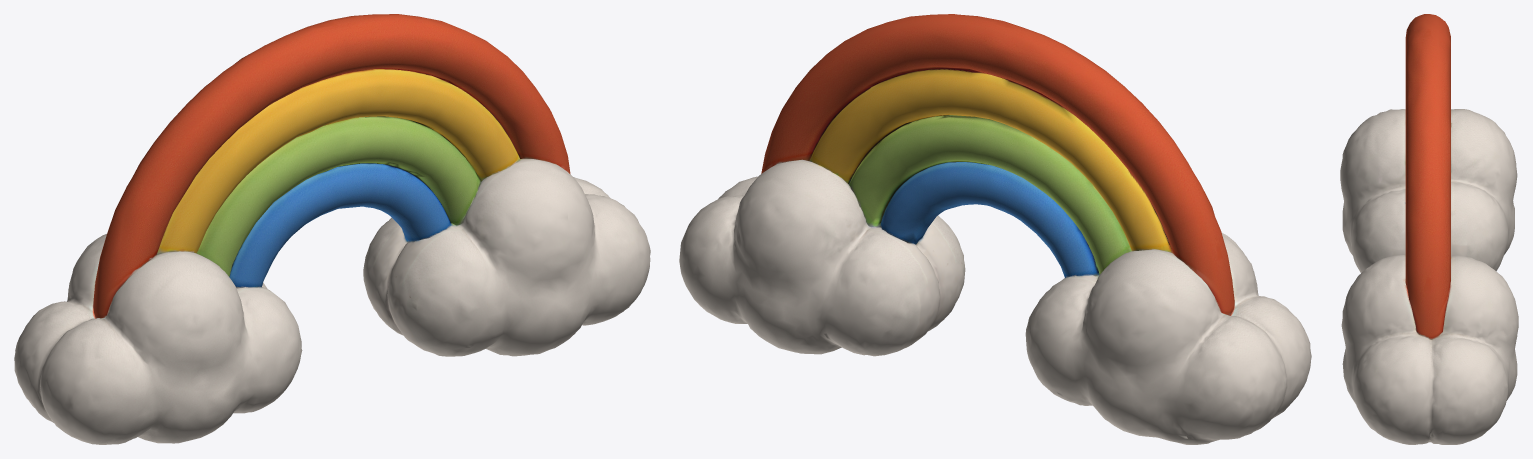
File: mem_ac_rainbow.fbx
3 views of the same model, side by side, from view 1: azimuth 30°, elevation 25°; view 2: azimuth 150°, elevation 25°; view 3: azimuth 270°, elevation 25° (orthographic). The views are drawn at different scales.
Parts seen in each view (by area): view 1: tripo_node_8bf1ac43; view 2: tripo_node_8bf1ac43; view 3: tripo_node_8bf1ac43.
Boxes of the visible parts, bbox=[...] form: tripo_node_8bf1ac43: bbox=[14, 14, 650, 444]; tripo_node_8bf1ac43: bbox=[679, 14, 1311, 444]; tripo_node_8bf1ac43: bbox=[1340, 14, 1518, 444].
Size of the model in its own units: 0.998 by 0.5801 by 0.2988.
